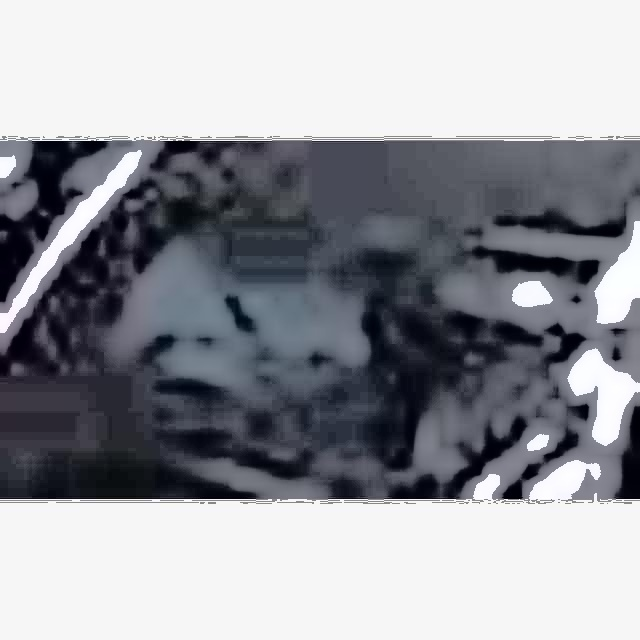pakai: (97, 238, 388, 413)
